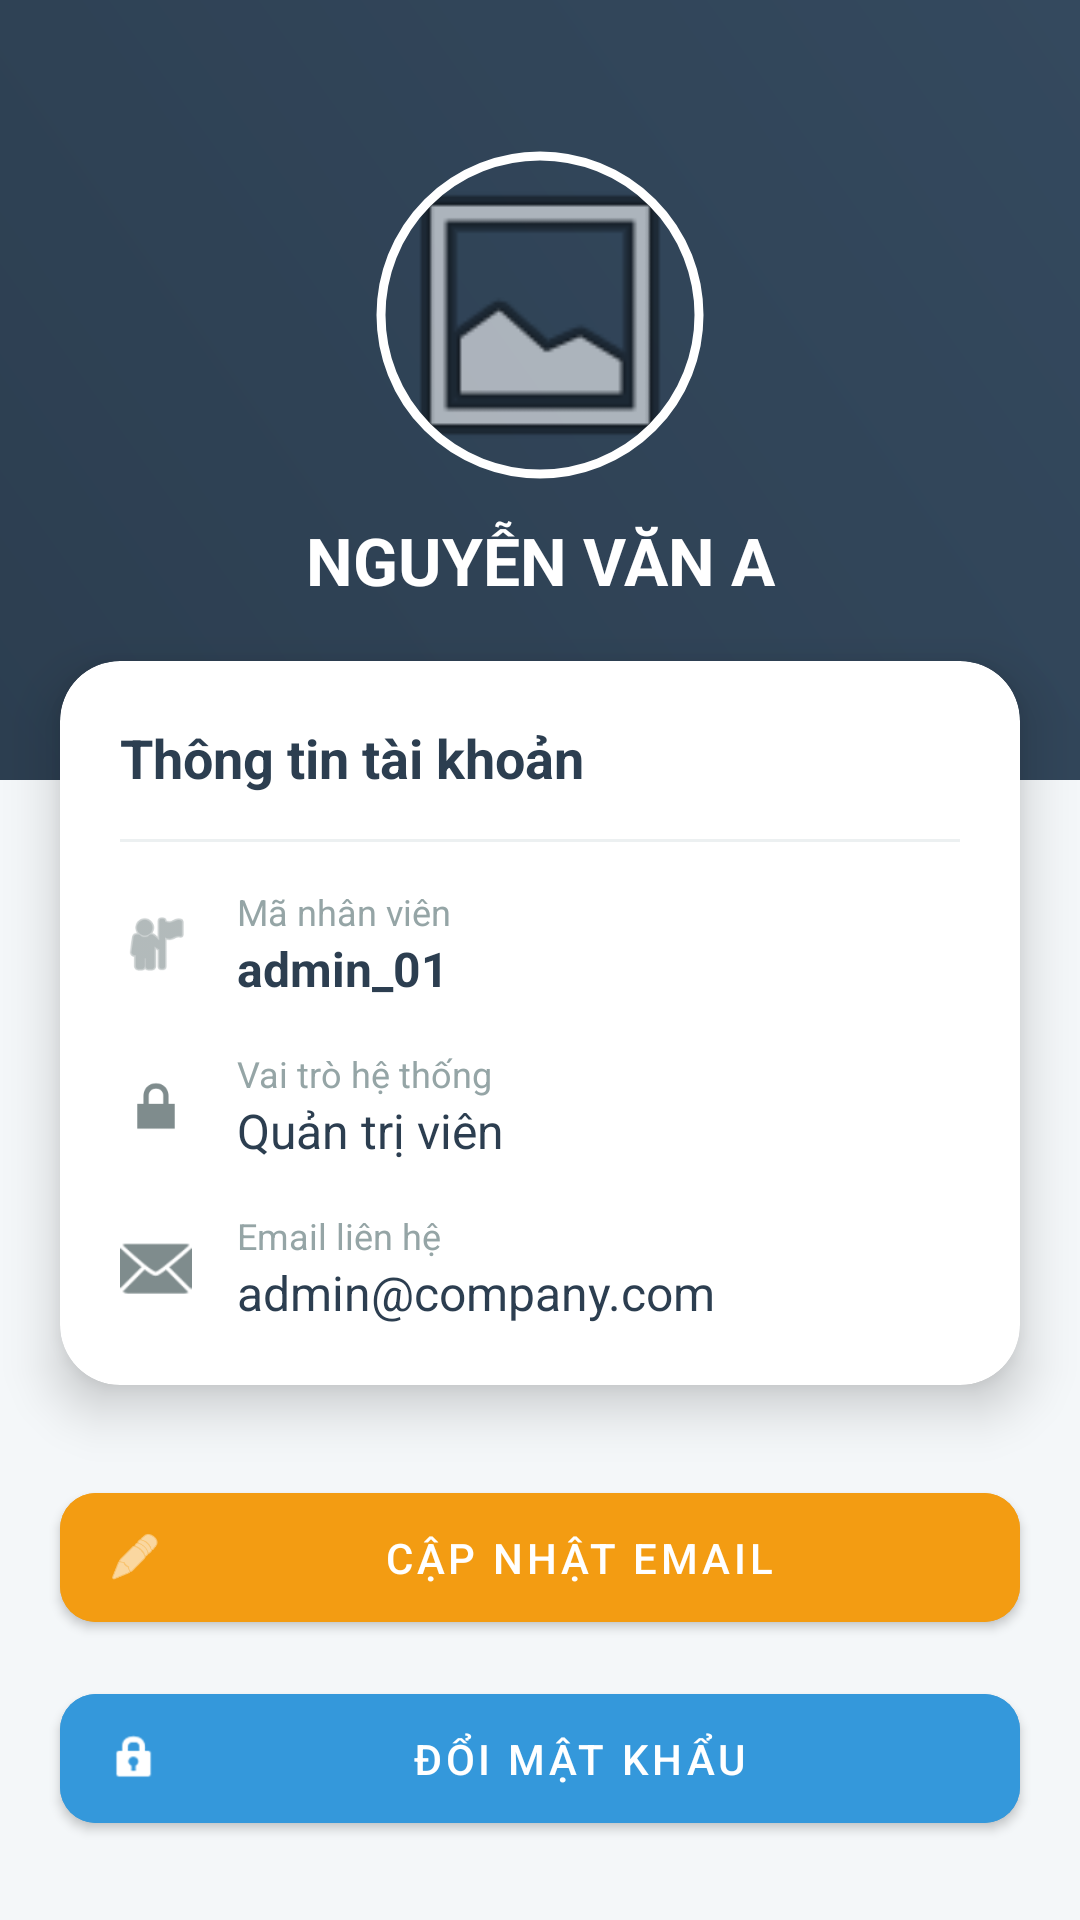

Icon click points for this 1080px x 1920px phone screenshot, format (x,y):
gallery: (540,315)
lock: (156,1106)
